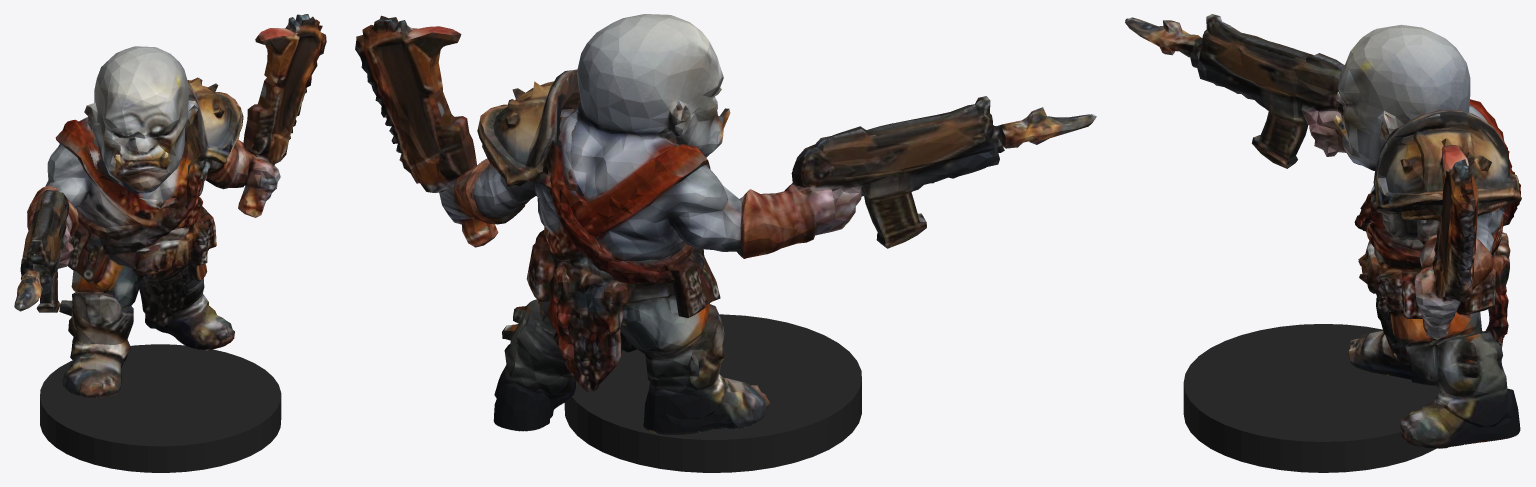
The model's file is goliath-forge-boss-boltgun.glb.
3 renders of one model, left to right at view 1: azimuth 30°, elevation 25°; view 2: azimuth 150°, elevation 25°; view 3: azimuth 270°, elevation 25°, orthographic. The views are drawn at different scales.
Visible parts, largest first — view 1: figure, base; view 2: figure, base; view 3: figure, base.
Part boxes in pixels (box(x1,y1,x2,y2)): figure: box(14, 14, 326, 397); base: box(40, 344, 281, 472); figure: box(355, 14, 1096, 434); base: box(564, 314, 861, 472); figure: box(1125, 14, 1521, 448); base: box(1183, 324, 1440, 472).
Size of the model in its own units: 2.13 by 1.52 by 1.4.
2 materials, 1 textured.
